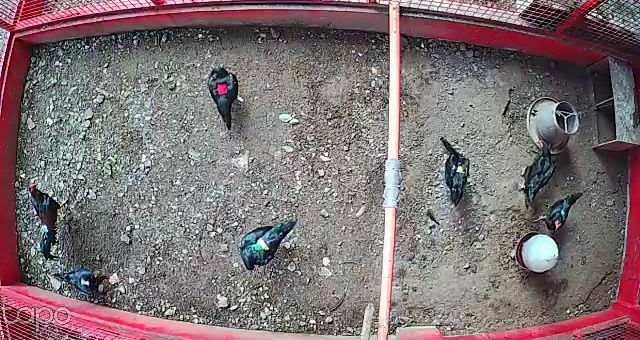Chicken: (239, 215, 299, 273), (515, 140, 560, 211), (437, 133, 472, 210), (207, 67, 246, 134), (527, 190, 584, 233), (51, 269, 105, 295)
Rooster: (27, 182, 74, 263)
Saddle_Color_Blue: (560, 209, 565, 215)
Saddle_Color_Red: (218, 83, 228, 95)
Saddle_Color_Yellow: (450, 164, 465, 173)
Saddle_Color_YellowGreen: (250, 235, 270, 252)
